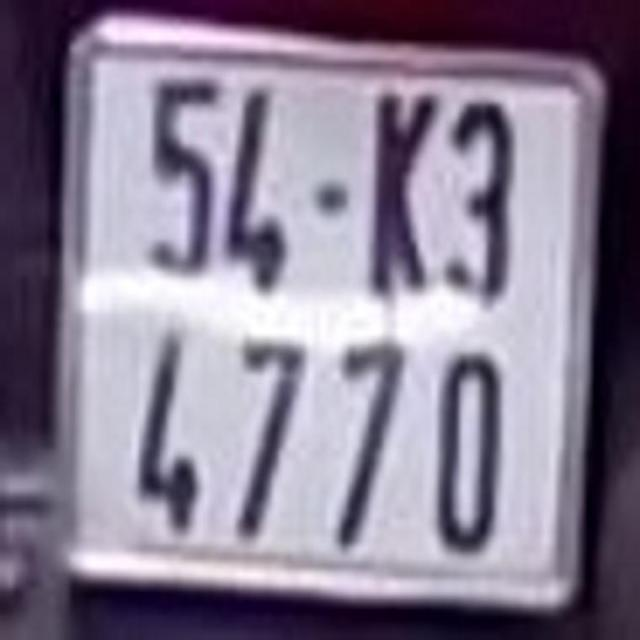0: (432, 346, 494, 551)
3: (446, 104, 503, 298)
4: (137, 343, 209, 536), (231, 88, 291, 284)
5: (143, 76, 217, 278)
7: (322, 340, 410, 552), (234, 327, 298, 540)
K: (364, 93, 438, 304)
